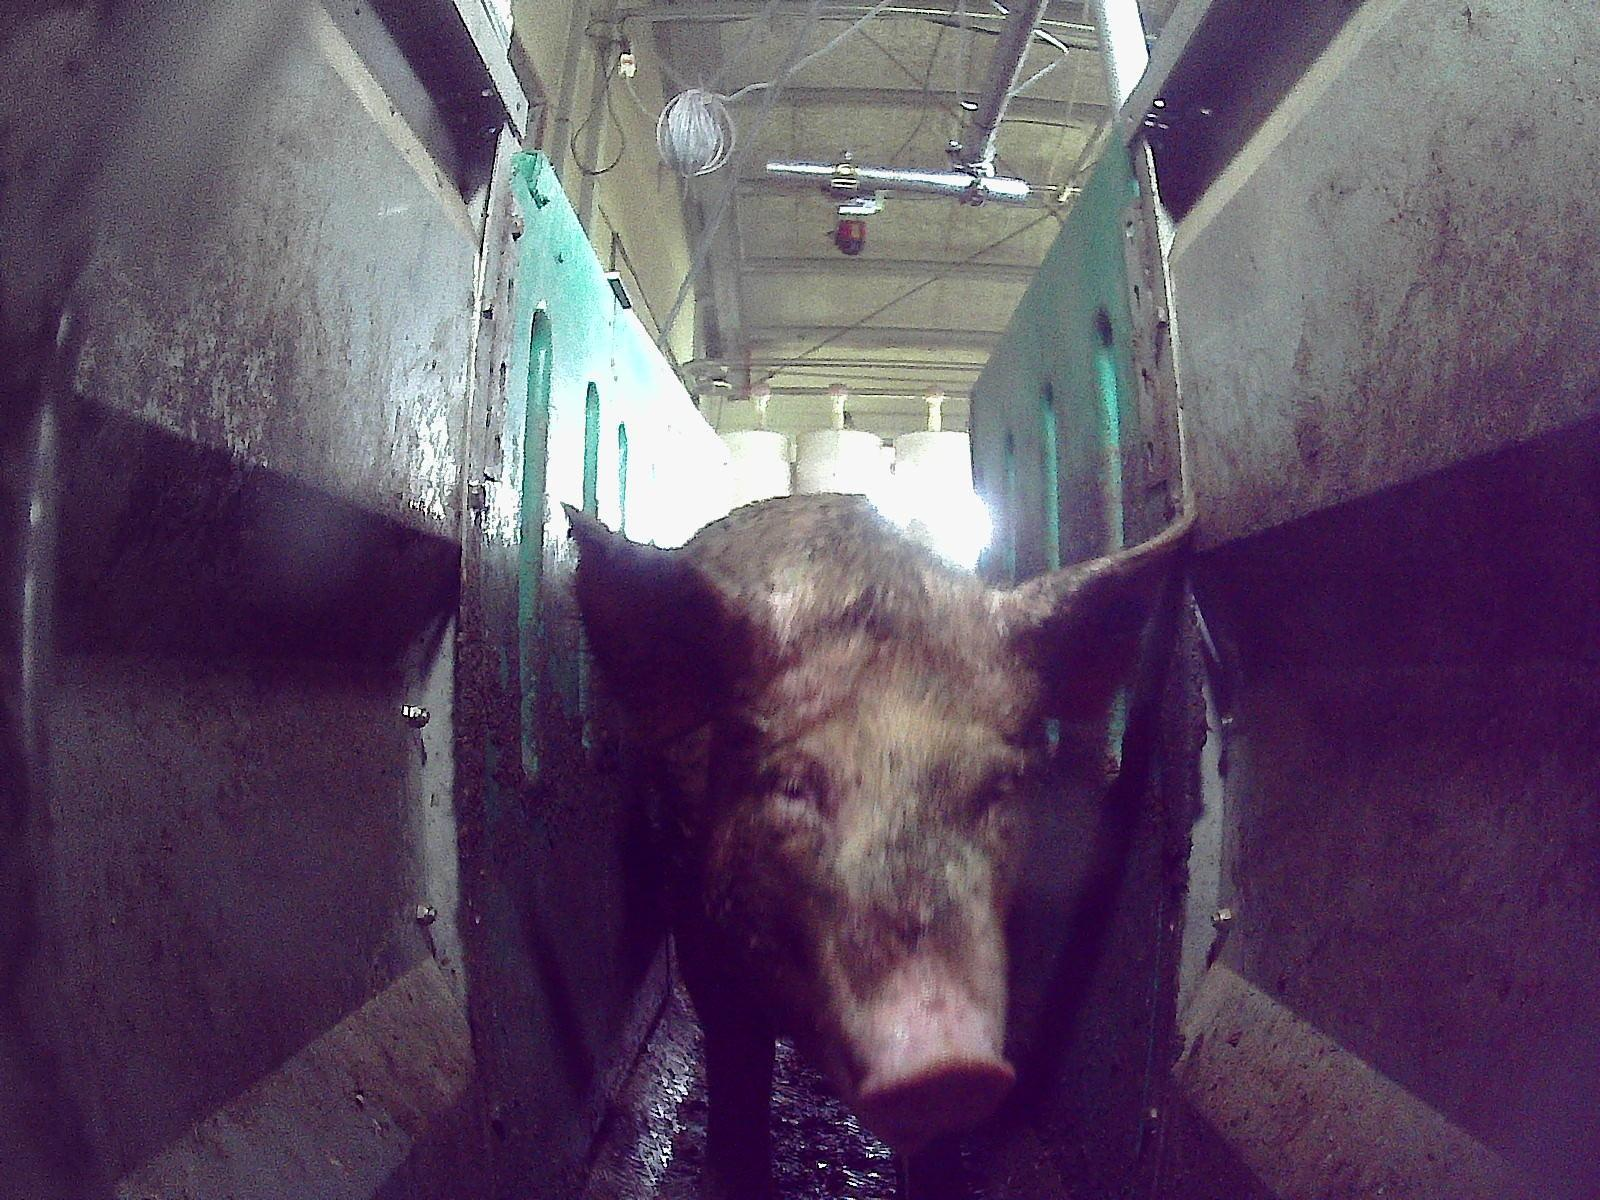Face: (700, 624, 1032, 1153)
